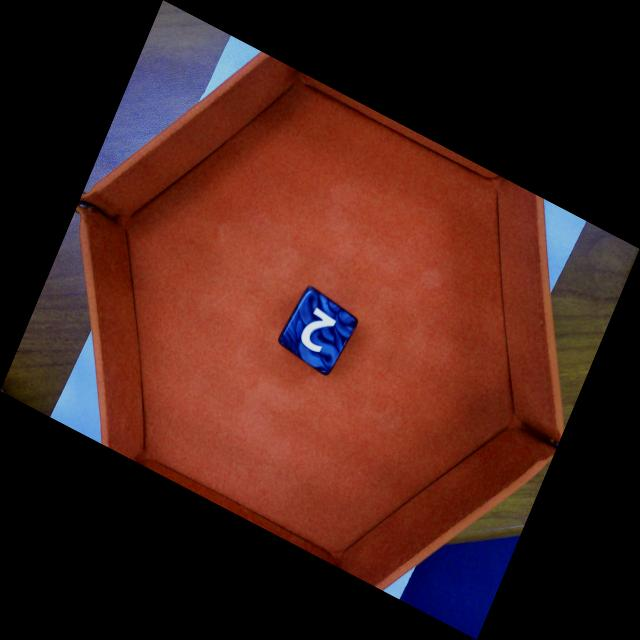dice: (277, 285, 359, 377)
